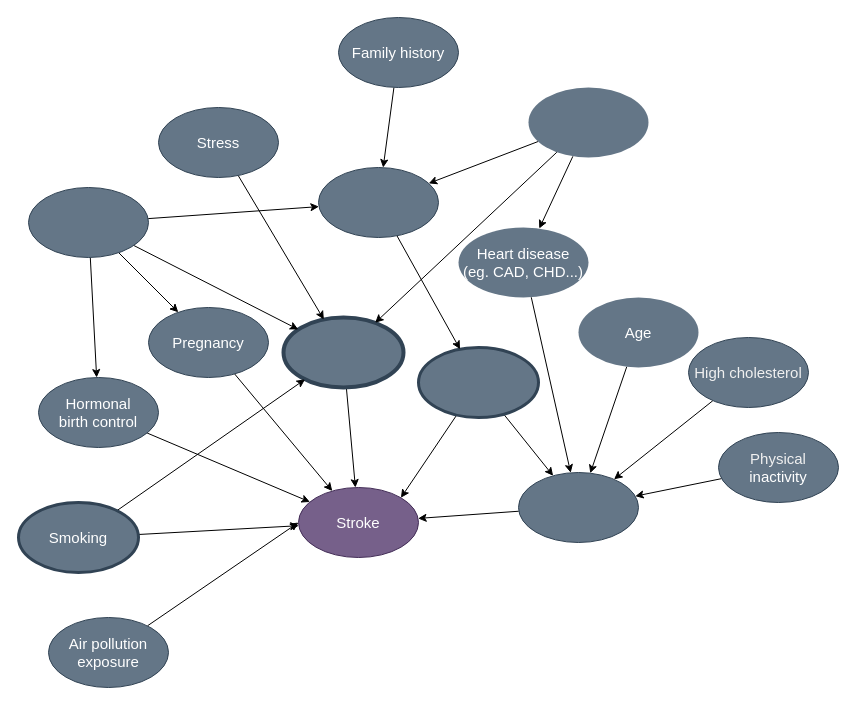
This 856x705 diagram has some shape labels left out. The centre of each missing label's shape, as x and y in pixels:
"Diabetes" goes at (378,202).
"High blood glucose level" goes at (478,382).
"Hypertension" goes at (343,352).
"Obesity" goes at (588,122).
"Plaque buildup ( atherosclerosis )" goes at (578,507).
"Sex" goes at (88,222).
